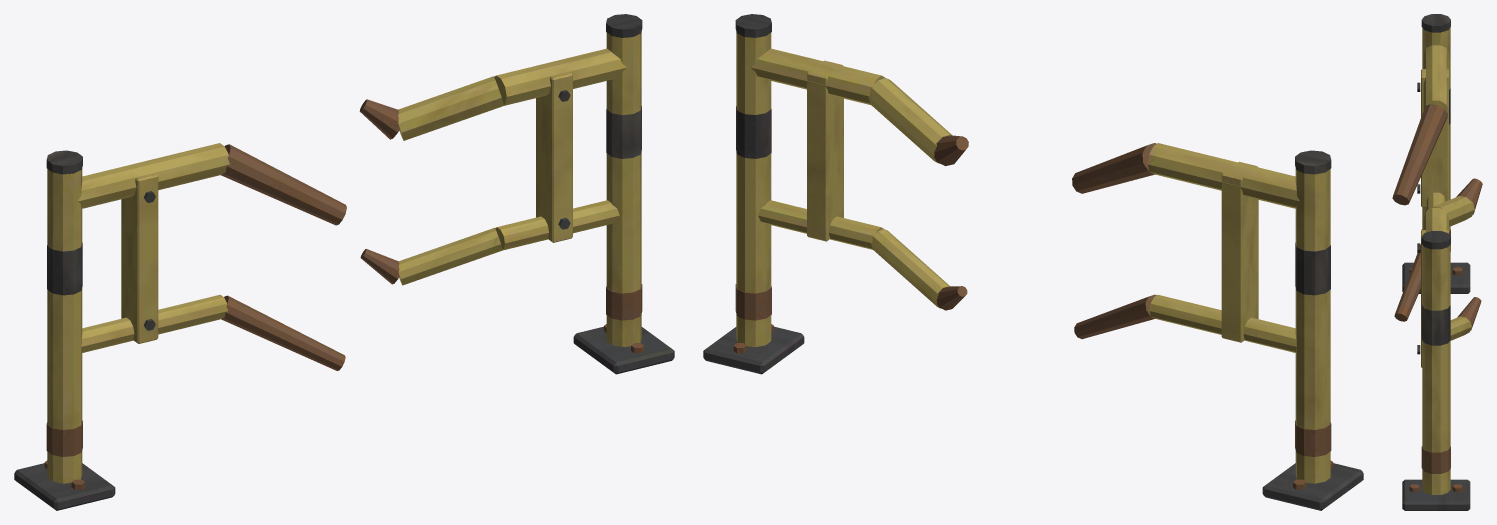
The model's file is BR20_broken_railing_v3.glb.
3 views of the same model, side by side, from view 1: azimuth 30°, elevation 25°; view 2: azimuth 150°, elevation 25°; view 3: azimuth 270°, elevation 25° (orthographic). The views are drawn at different scales.
Parts seen in each view (by area): view 1: Anchor plate; view 2: Anchor plate; view 3: Anchor plate.
Part boxes in pixels (<box>): Anchor plate: <box>14,14,674,510</box>; Anchor plate: <box>703,14,1363,510</box>; Anchor plate: <box>1392,14,1482,510</box>.
Size of the model in its own units: 2 by 1.02 by 0.3163.
4 materials, 4 textured.
